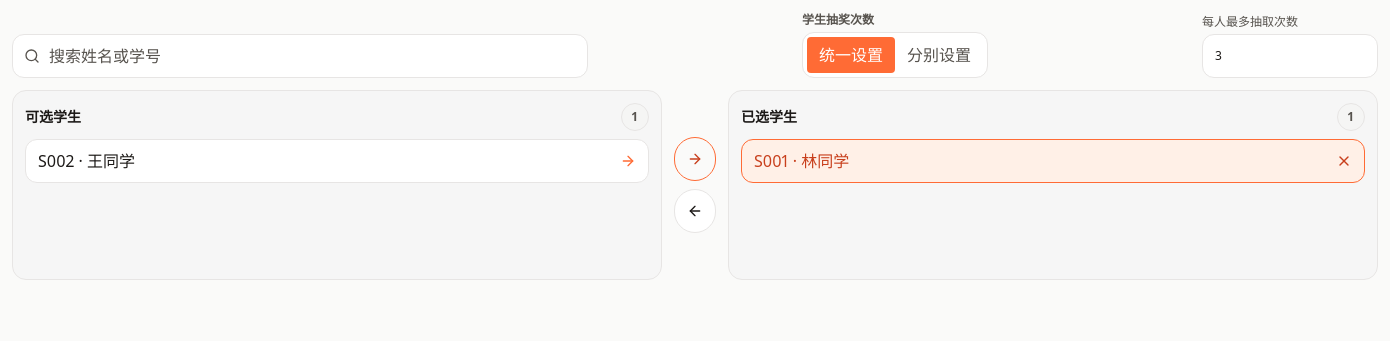
Scenario: student limit mode toggle submits copied limits and removes stale student limits
This screenshot has width=1390, height=341.
What coordinates should you click on to do the following:
click the button "分别设置"
I would click on:
 (939, 55)
Its box is [895,37,983,73].
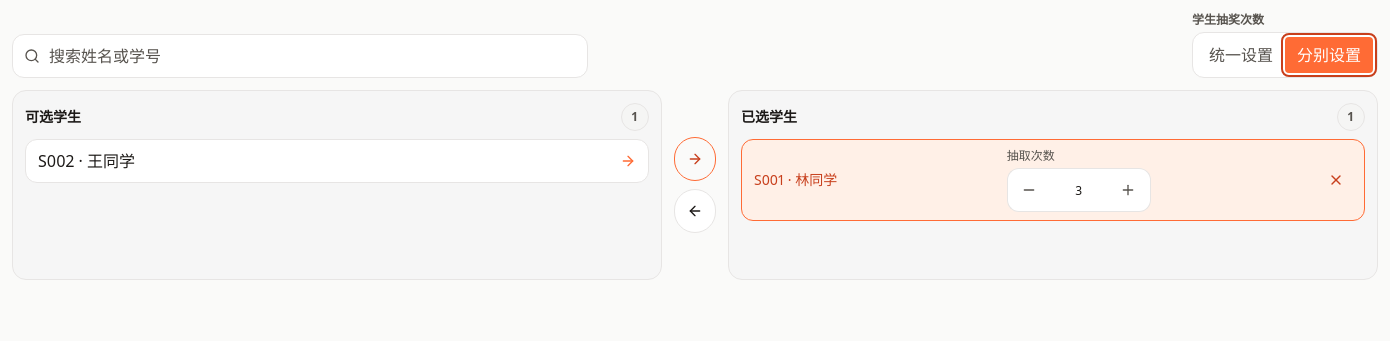
Expected: the field named "抽取次数 S001 · 林同学" holds "3", [1051,168,1107,212]
What coordinates should you click on to do the following:
click the button named "增加抽取次数 S001 · 林同学"
I would click on:
 (1129, 190)
Its box is [1107,168,1151,212].
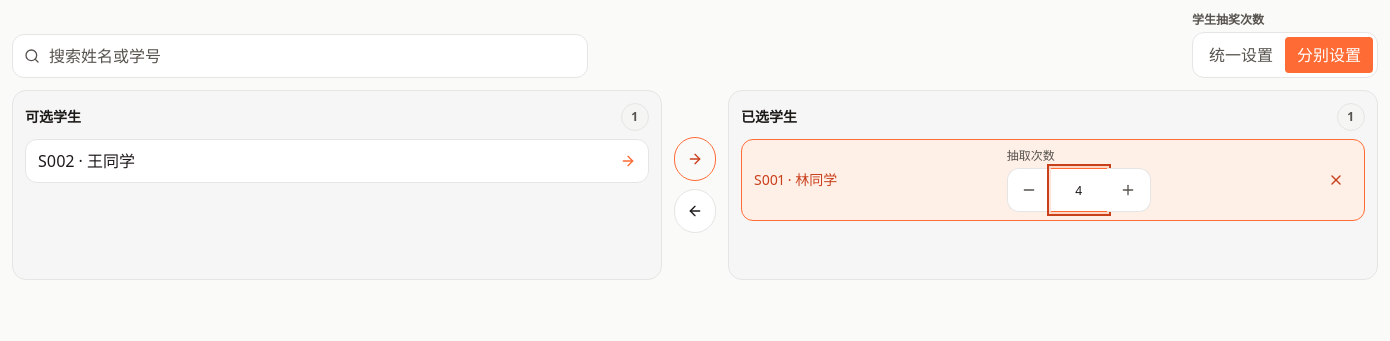
Expected: the field named "抽取次数 S001 · 林同学" holds "4", [1051,168,1107,212]
What coordinates should you click on to do the following:
click the button named "减少抽取次数 S001 · 林同学"
I would click on:
 (1029, 190)
Its box is [1007,168,1051,212].
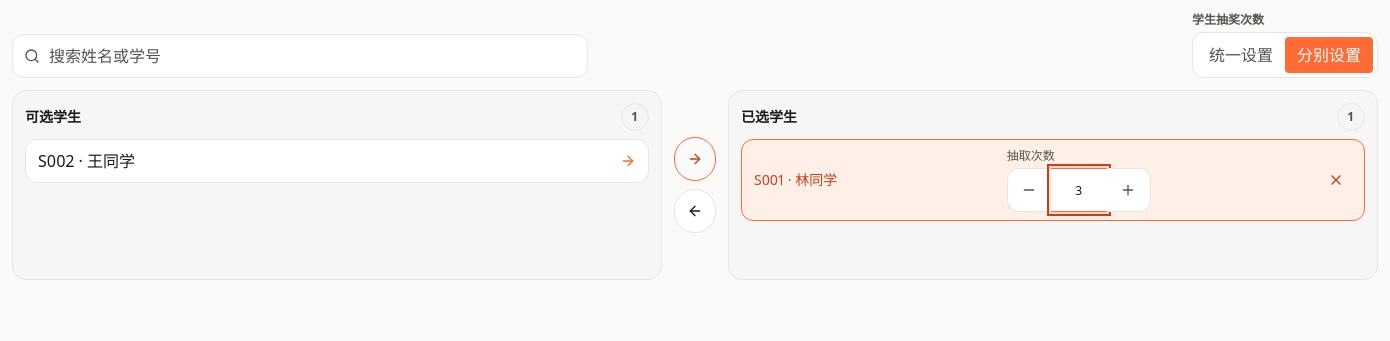
Expected: the field named "抽取次数 S001 · 林同学" holds "3", [1051,168,1107,212]
What coordinates should you click on to do the following:
click the button "分别设置"
I would click on:
 (1329, 55)
Its box is [1285,37,1373,73].
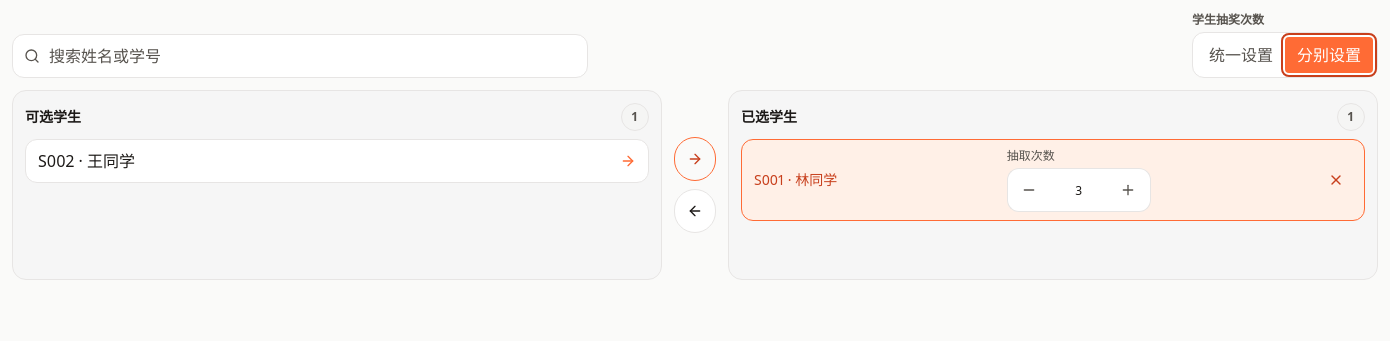
Expected: the field named "抽取次数 S001 · 林同学" holds "3", [1051,168,1107,212]
What coordinates should you click on to do the following:
click the button with aria-label "添加 S002 · 王同学"
I would click on:
 (86, 161)
Its box is [25,139,649,183].
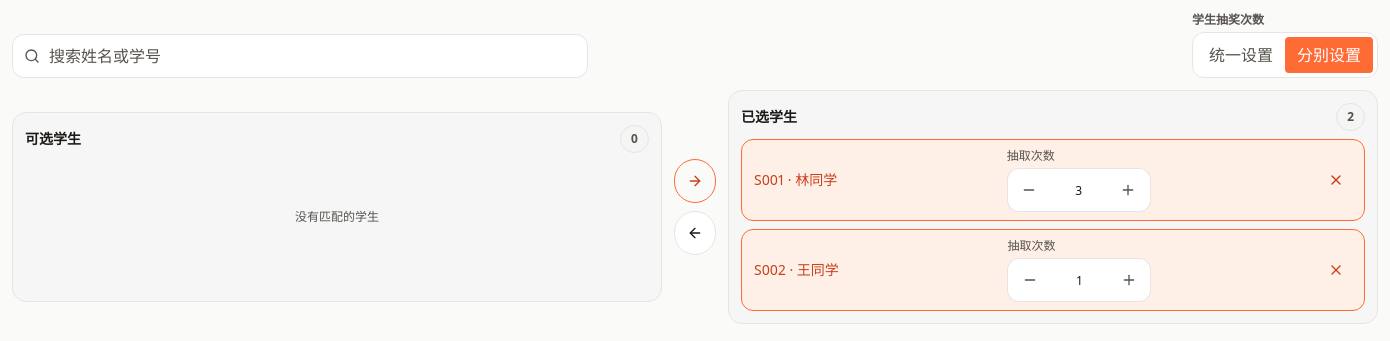
Expected: the field named "studentLimit:2" holds "1", [1051,258,1107,302]
What coordinates should you click on to do the following:
click the button named "移除 S001 · 林同学"
I would click on:
 (1336, 180)
Its box is [1320,164,1352,196].
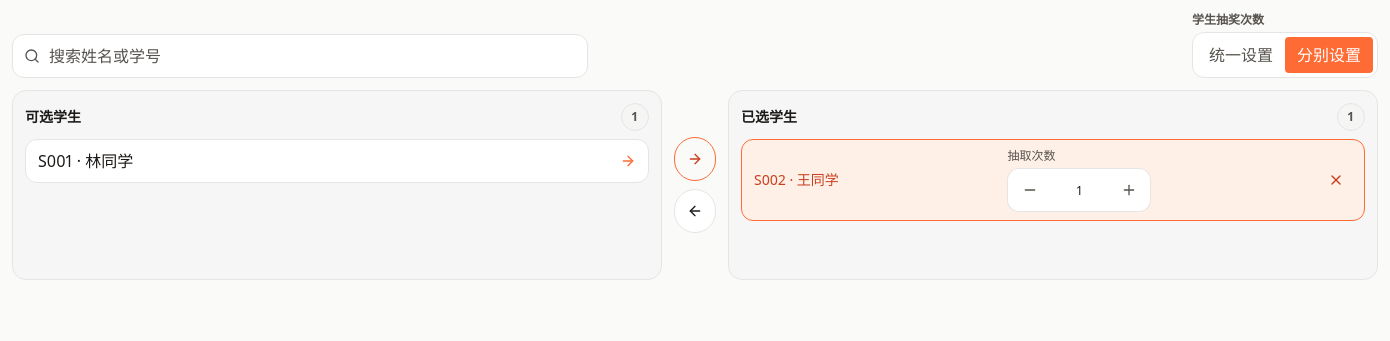
Expected: the field named "studentLimit:2" is shown, [1051,168,1107,212]
Expected: the field named "studentLimit:1" is gone
